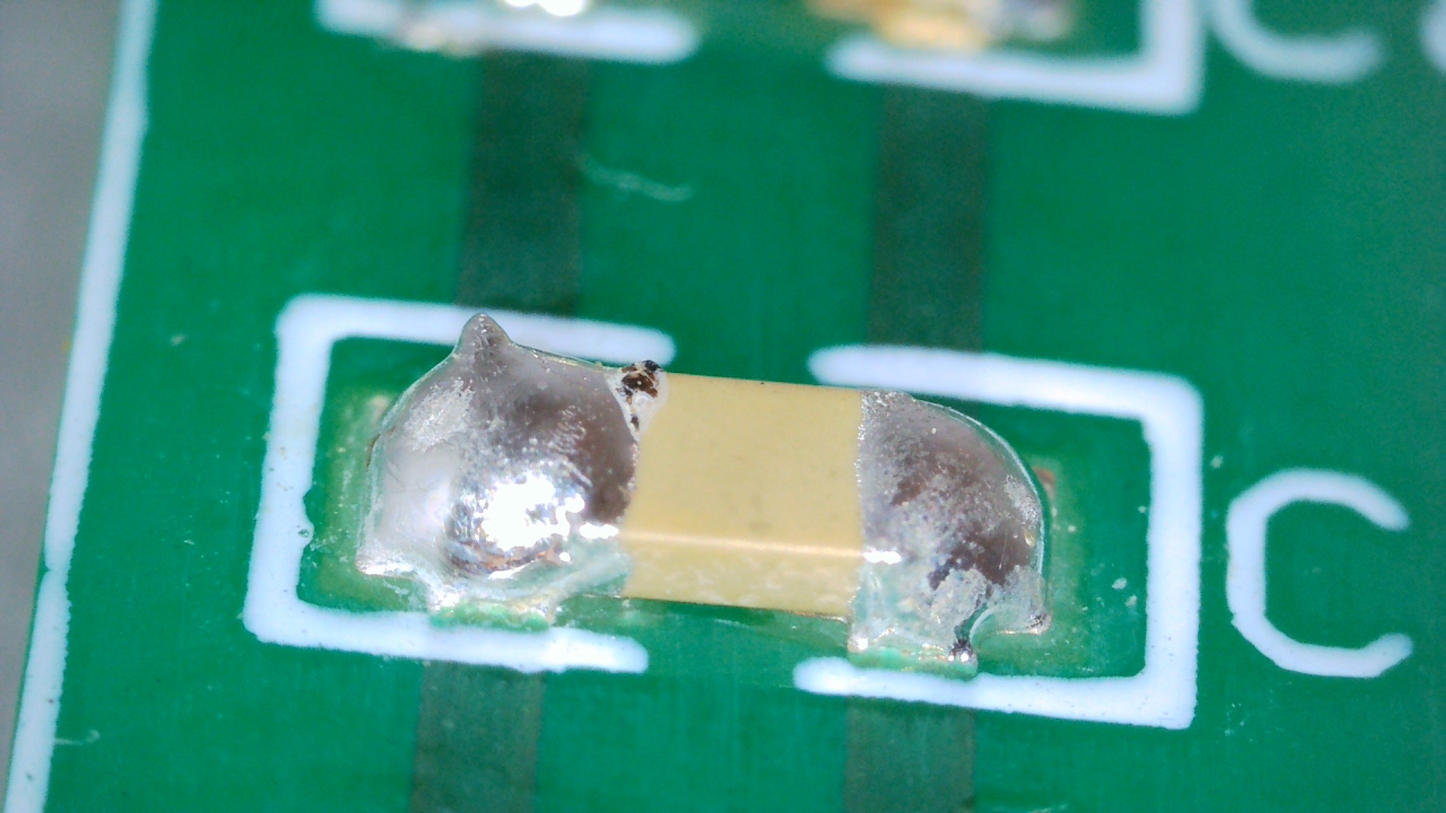NG: (362, 312, 654, 618), (845, 390, 1047, 674), (455, 319, 520, 394)
